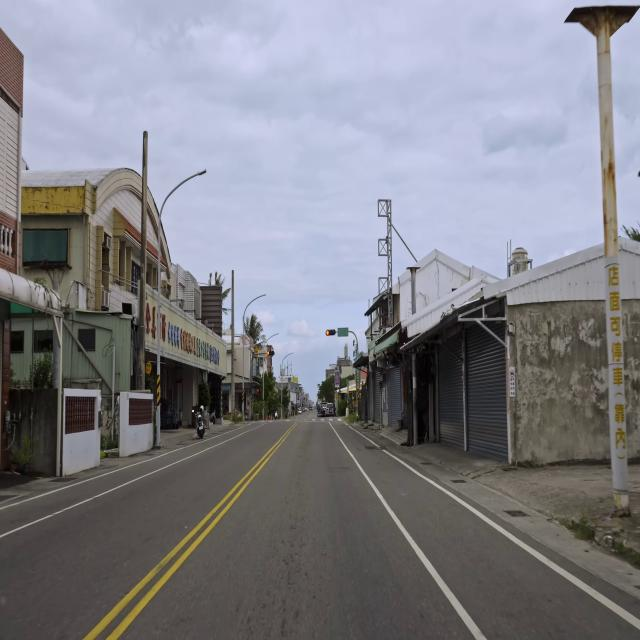red light: (326, 329, 336, 336), (266, 351, 274, 356)
